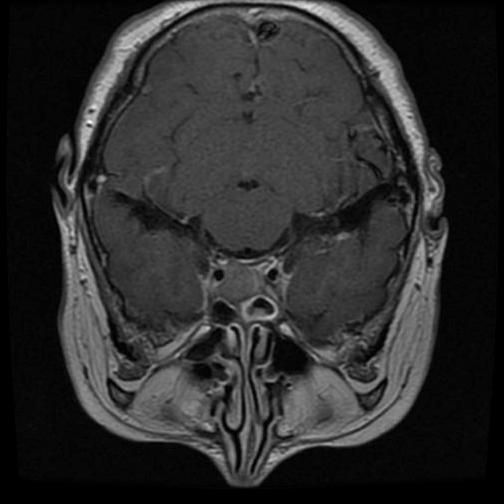Tumour-Pituitary: (195, 245, 297, 317)
